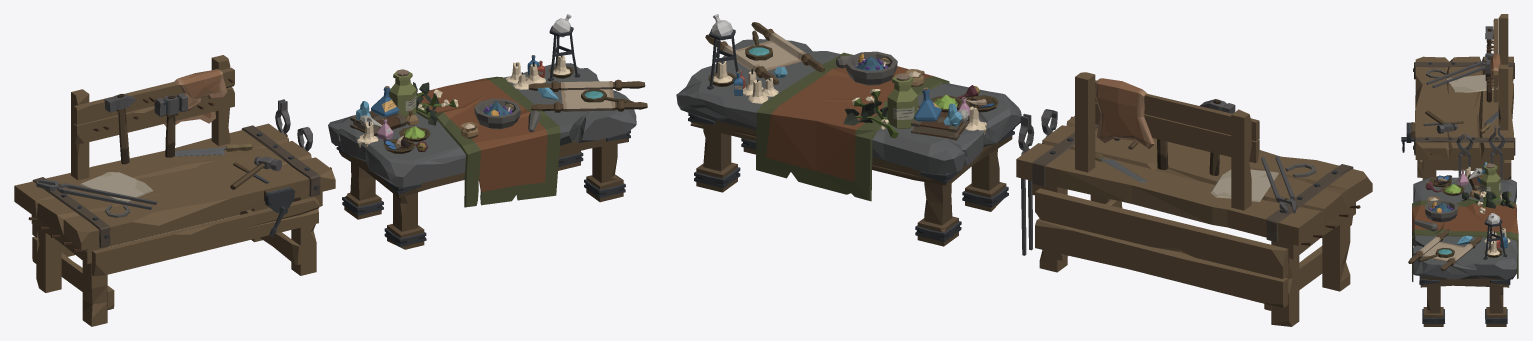
Rendered from workbenches.glb.
The picture shows the model from 3 angles, left to right: view 1: azimuth 30°, elevation 25°; view 2: azimuth 150°, elevation 25°; view 3: azimuth 270°, elevation 25°; orthographic projection. The views are drawn at different scales.
Visible parts, largest first — view 1: Workbench; view 2: Workbench; view 3: Workbench.
Boxes of the visible parts, bbox=[...] form: Workbench: bbox=[14, 14, 647, 326]; Workbench: bbox=[676, 14, 1372, 326]; Workbench: bbox=[1401, 14, 1518, 326].
Size of what is drawn, in the model's own units: 5.25 by 1.58 by 1.24.
Materials: 1 (1 with a texture image).
